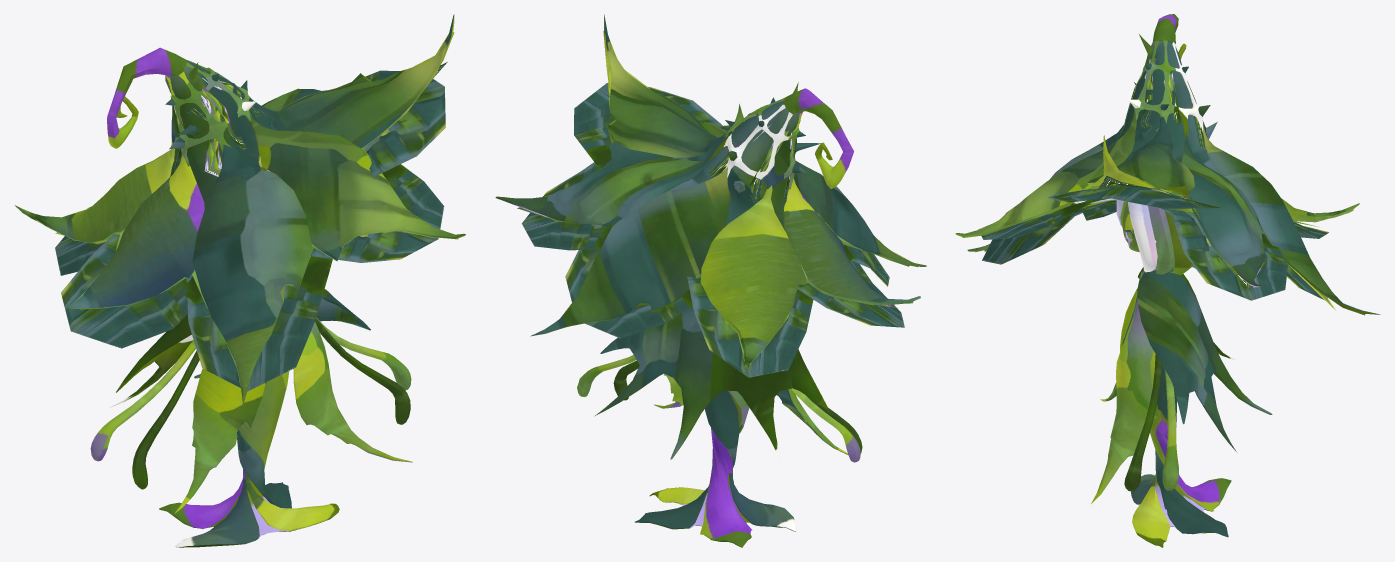
File: hexxin.glb
3 renders of one model, left to right at view 1: azimuth 30°, elevation 25°; view 2: azimuth 150°, elevation 25°; view 3: azimuth 270°, elevation 25°, orthographic. The views are drawn at different scales.
Parts seen in each view (by area): view 1: M_Parmon_10203_Body_LOD2_256781580.obj, M_Parmon_10203_Body05_LOD2_256781580.obj, M_Parmon_10203_Body04_LOD2_256781580.obj, M_Parmon_10203_Body01_LOD2_256781580.obj, M_Parmon_10203_Body02_LOD2_256781580.obj; view 2: M_Parmon_10203_Body_LOD2_256781580.obj, M_Parmon_10203_Body05_LOD2_256781580.obj, M_Parmon_10203_Body04_LOD2_256781580.obj, M_Parmon_10203_Body02_LOD2_256781580.obj, M_Parmon_10203_Body01_LOD2_256781580.obj; view 3: M_Parmon_10203_Body_LOD2_256781580.obj, M_Parmon_10203_Body05_LOD2_256781580.obj, M_Parmon_10203_Body04_LOD2_256781580.obj, M_Parmon_10203_Body03_LOD2_256781580.obj, M_Parmon_10203_Body02_LOD2_256781580.obj.
Part boxes in pixels (x1,y1,x2,y2): M_Parmon_10203_Body_LOD2_256781580.obj: (15, 14, 465, 547); M_Parmon_10203_Body05_LOD2_256781580.obj: (55, 62, 447, 391); M_Parmon_10203_Body04_LOD2_256781580.obj: (165, 60, 277, 209); M_Parmon_10203_Body01_LOD2_256781580.obj: (36, 50, 458, 397); M_Parmon_10203_Body02_LOD2_256781580.obj: (21, 32, 458, 384); M_Parmon_10203_Body_LOD2_256781580.obj: (495, 14, 926, 547); M_Parmon_10203_Body05_LOD2_256781580.obj: (517, 83, 904, 377); M_Parmon_10203_Body04_LOD2_256781580.obj: (665, 90, 820, 230); M_Parmon_10203_Body02_LOD2_256781580.obj: (512, 31, 913, 371); M_Parmon_10203_Body01_LOD2_256781580.obj: (524, 49, 917, 370); M_Parmon_10203_Body_LOD2_256781580.obj: (955, 14, 1380, 547); M_Parmon_10203_Body05_LOD2_256781580.obj: (978, 58, 1335, 310); M_Parmon_10203_Body04_LOD2_256781580.obj: (1113, 40, 1219, 173); M_Parmon_10203_Body03_LOD2_256781580.obj: (1116, 200, 1195, 274); M_Parmon_10203_Body02_LOD2_256781580.obj: (962, 151, 1365, 315).
Bounding box in the file's own units: 1.3 × 1.54 × 1.3.
2 materials, 2 textured.
